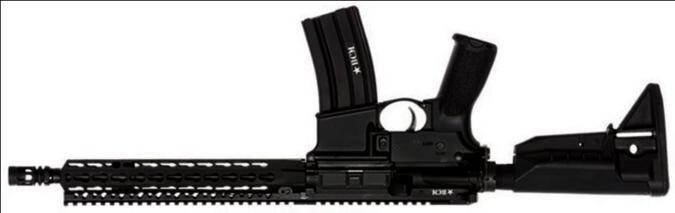gun: (10, 4, 672, 209)
